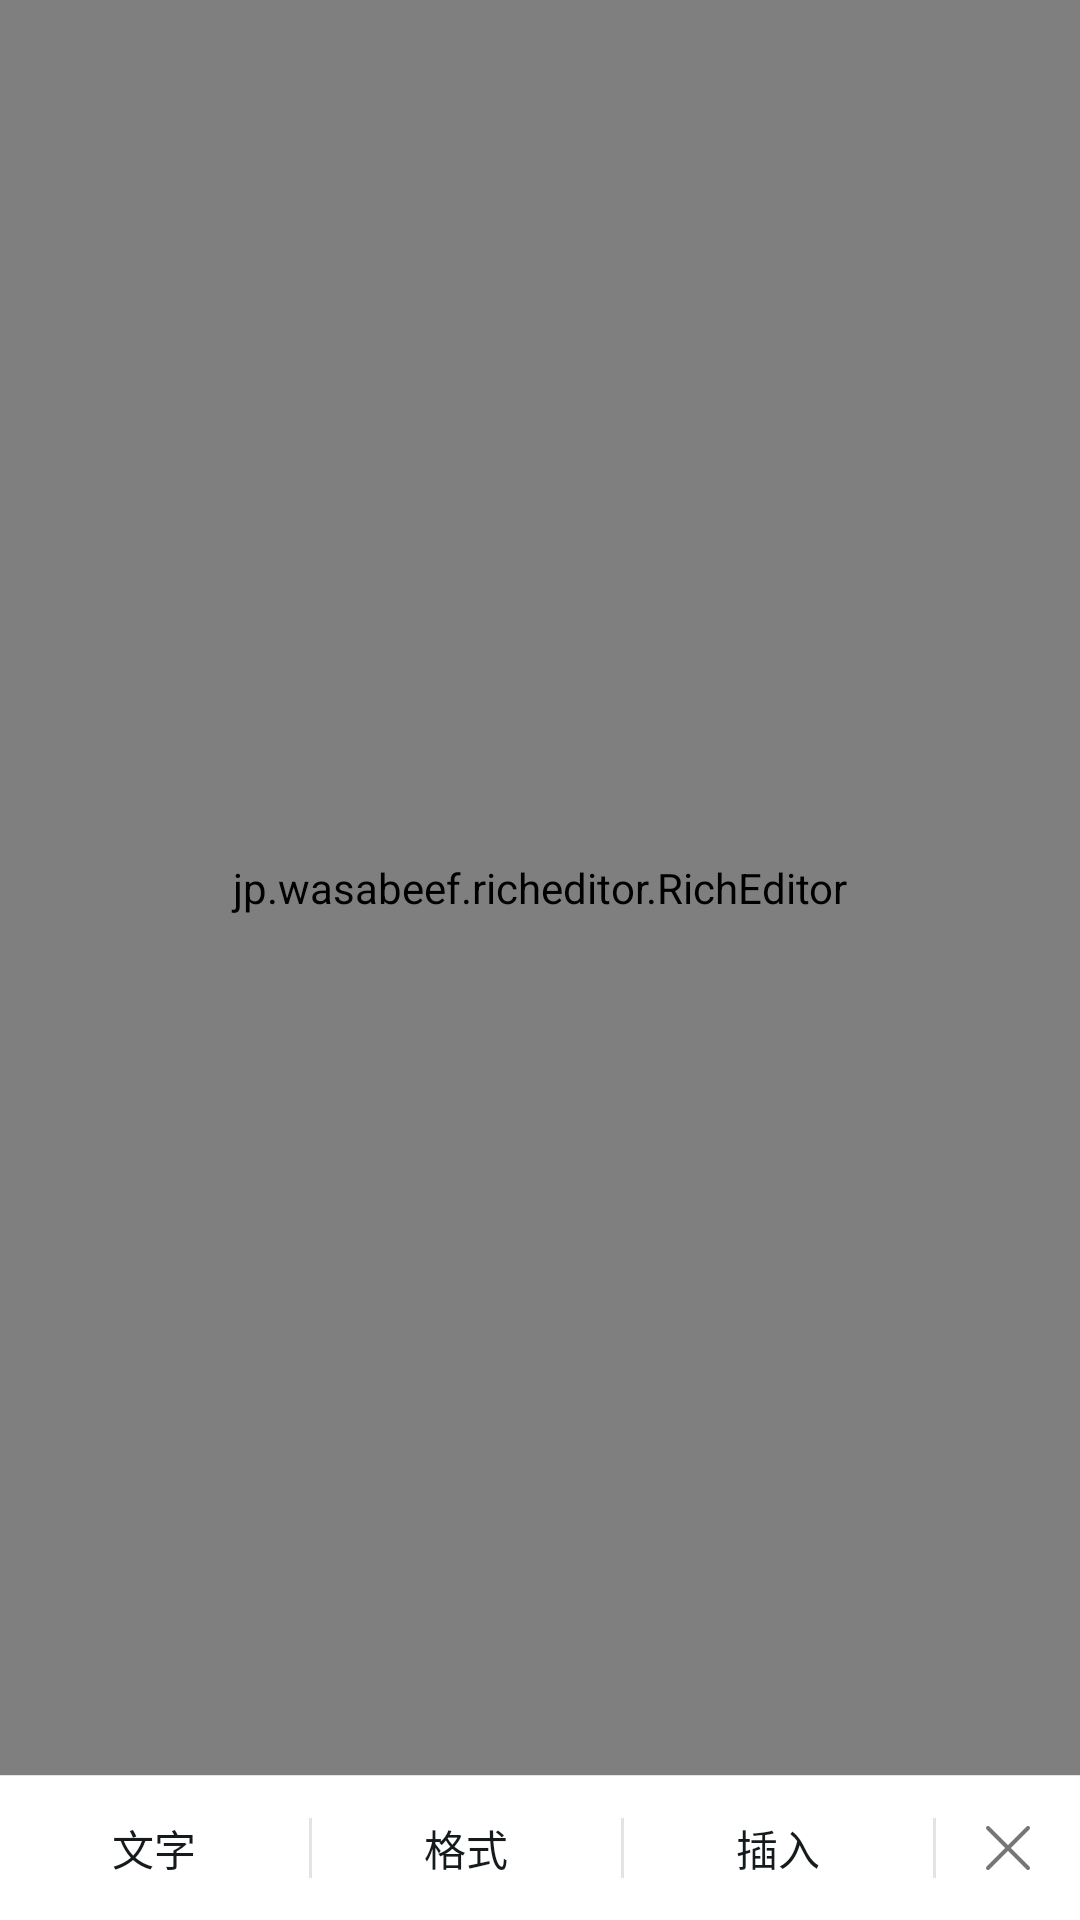

Where icons sit on this 1080x1920 app screen, as (x1, y1, x2, y2):
tip label close: (986, 1826, 1030, 1870)
